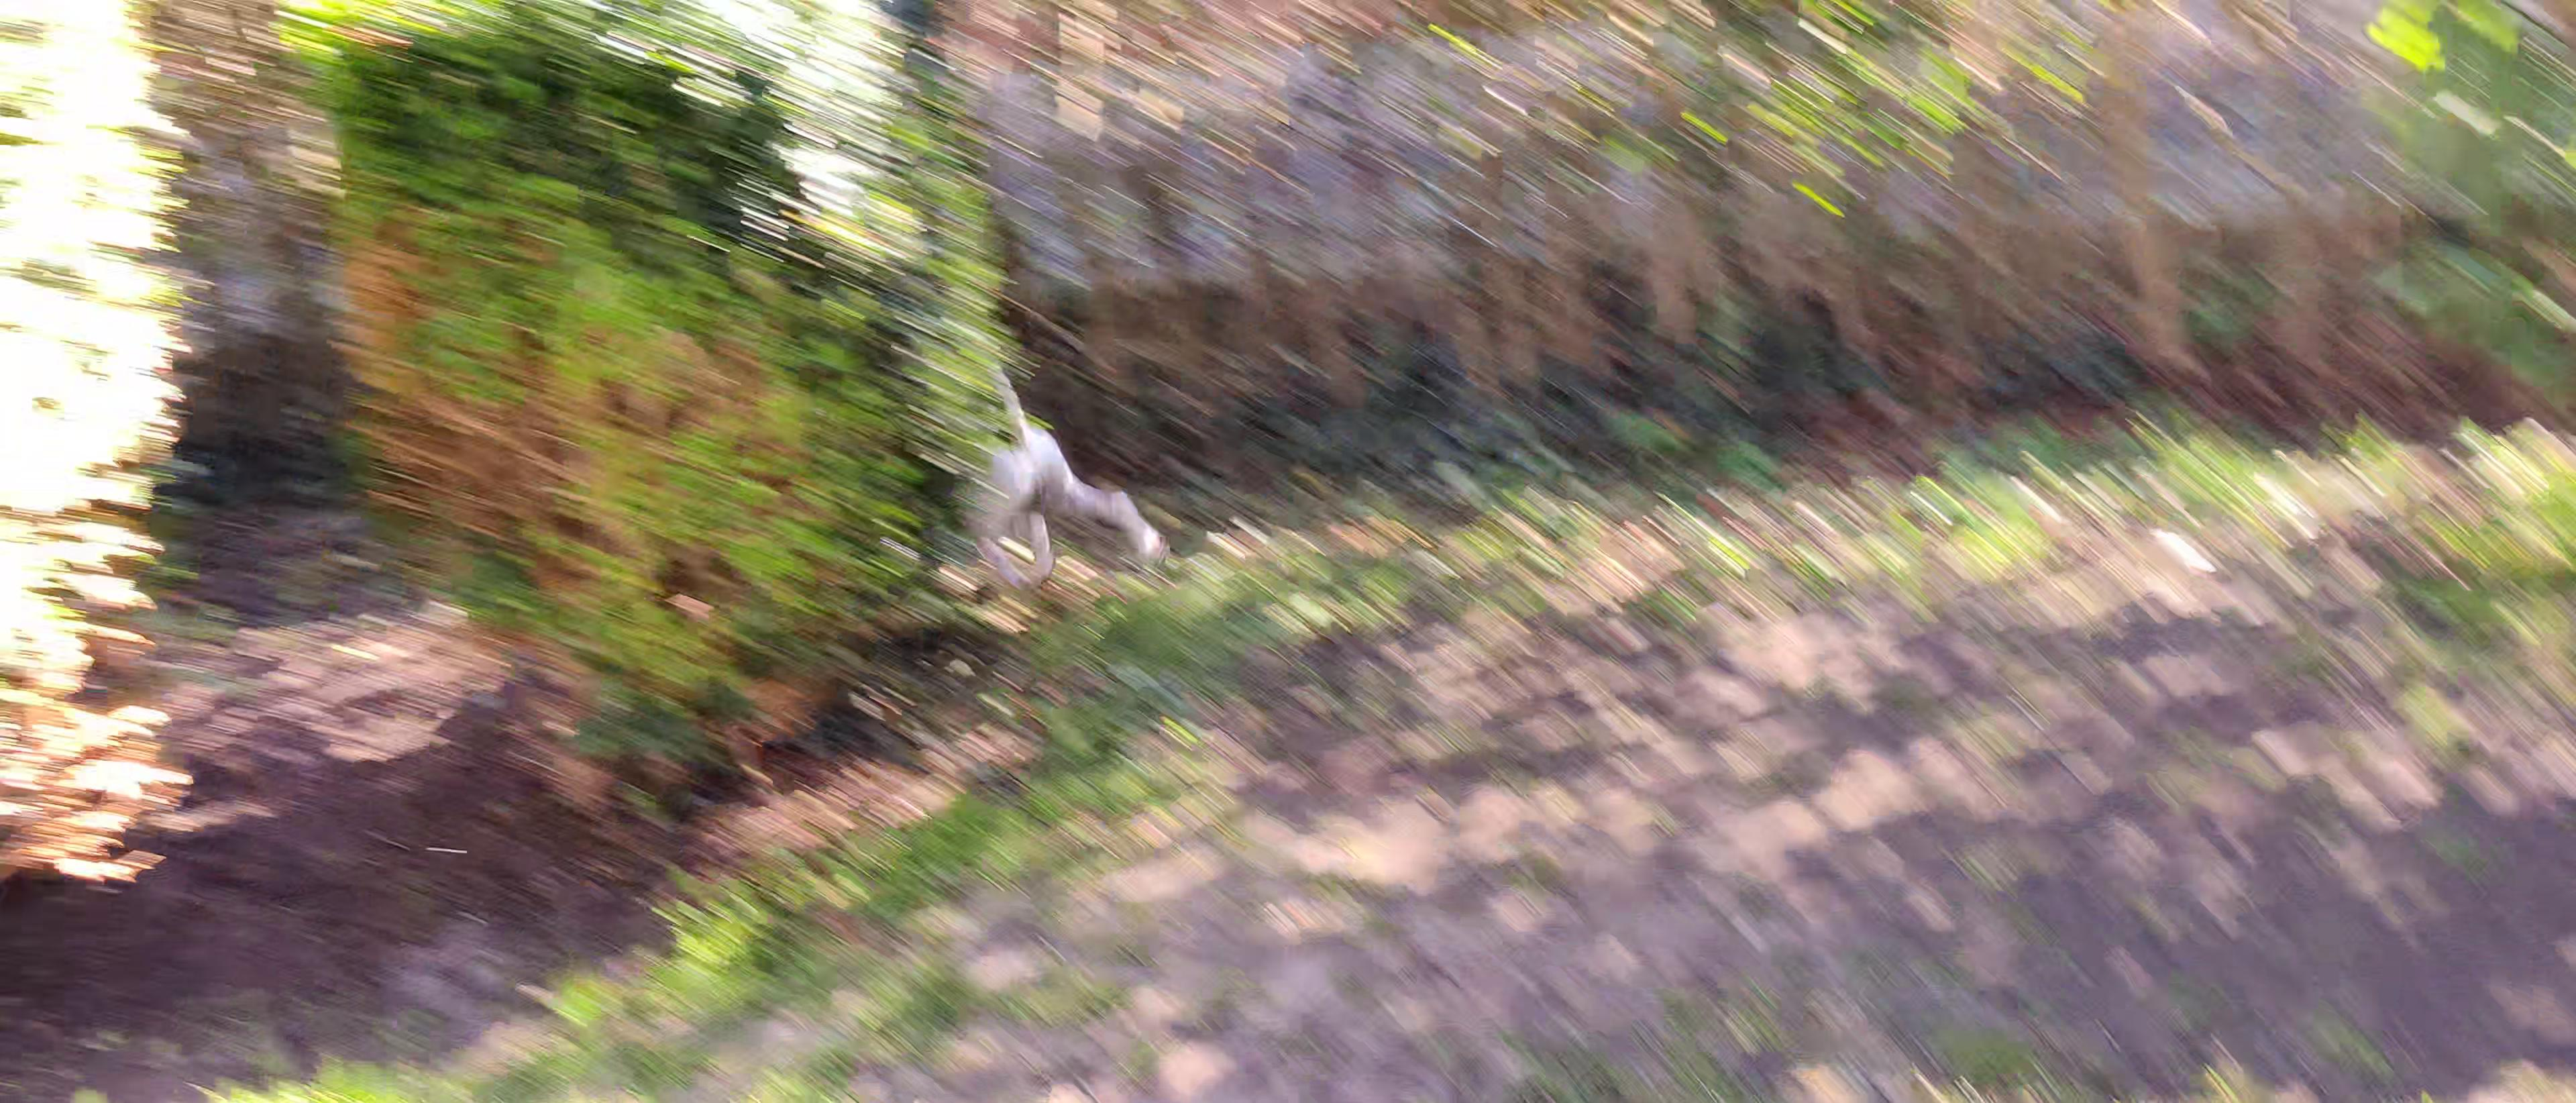Dog: (954, 348, 1188, 611)
